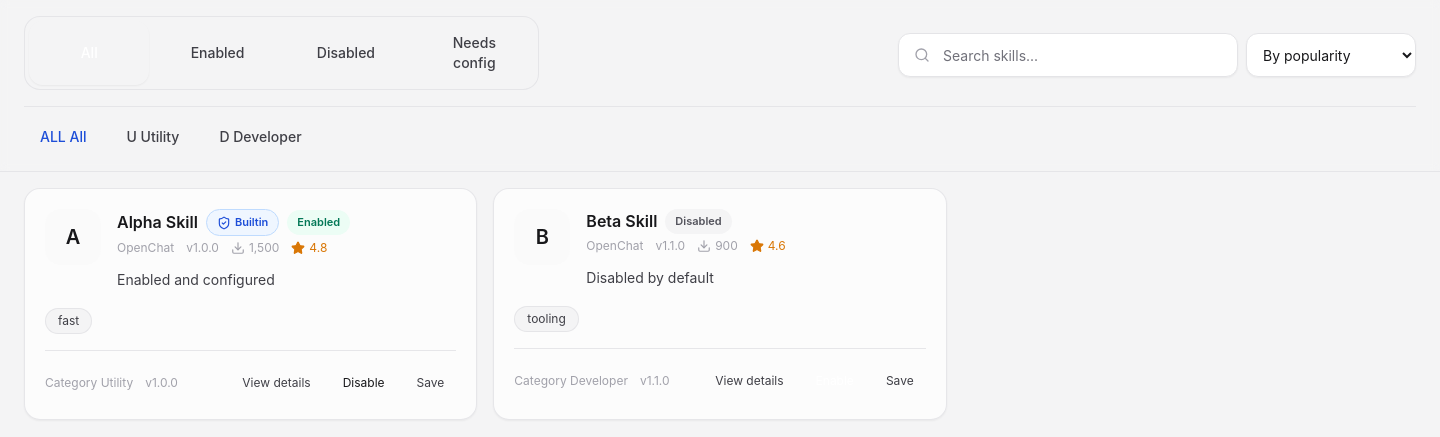
Test case: skill market standard layout › uses a compact market shell with tabs and filters instead of a hero sidebar layout
expect the tab "All" is shown: met, box [29,21,149,85]
expect the tab "Disabled" is shown: met, box [286,21,406,85]
Click the tab "Enabled" at (218, 53), box [157,21,278,85]
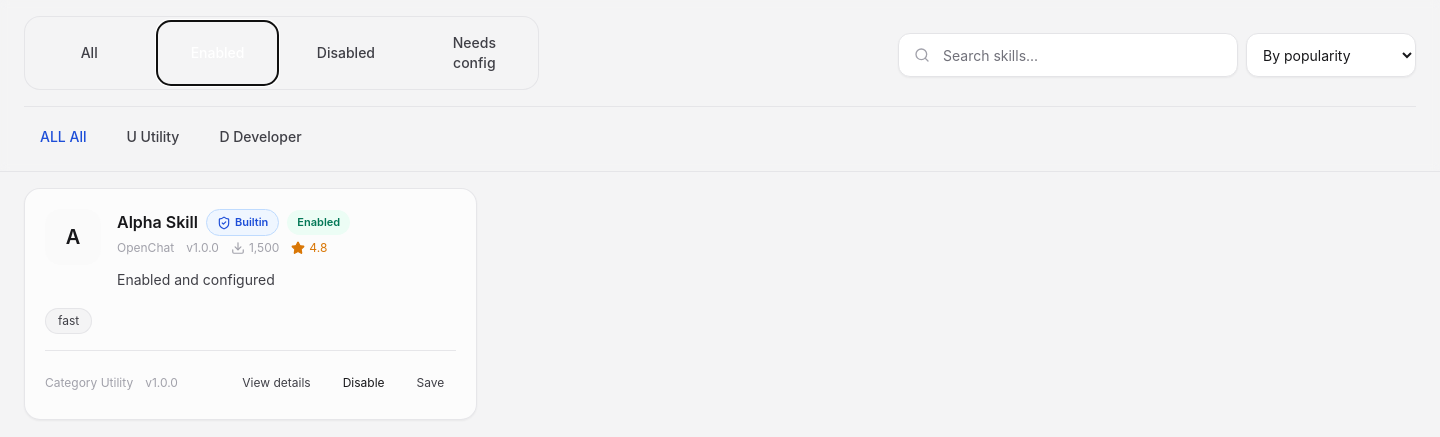
expect the heading "Alpha Skill" is shown: met, box [117,210,198,234]
expect the heading "Beta Skill" is gone: met
